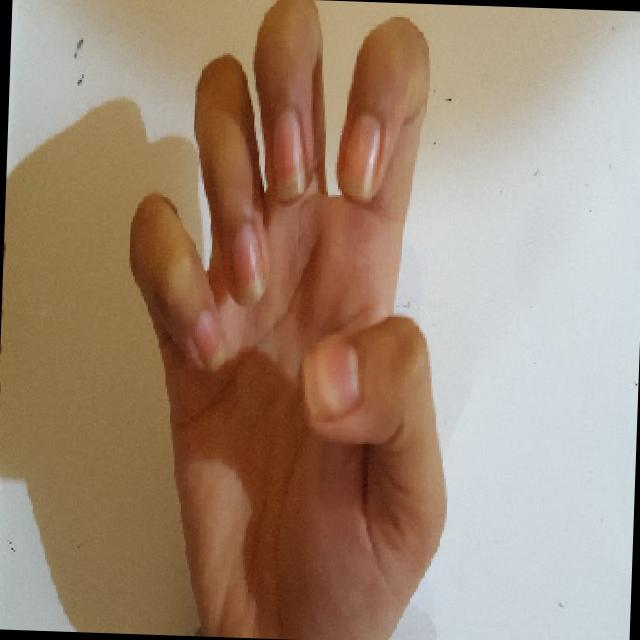Nail: (302, 338, 360, 422), (341, 114, 379, 200), (271, 110, 305, 200), (230, 222, 262, 304), (192, 309, 225, 369)
